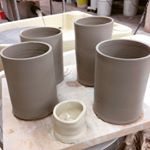cups: (51, 98, 90, 139)
